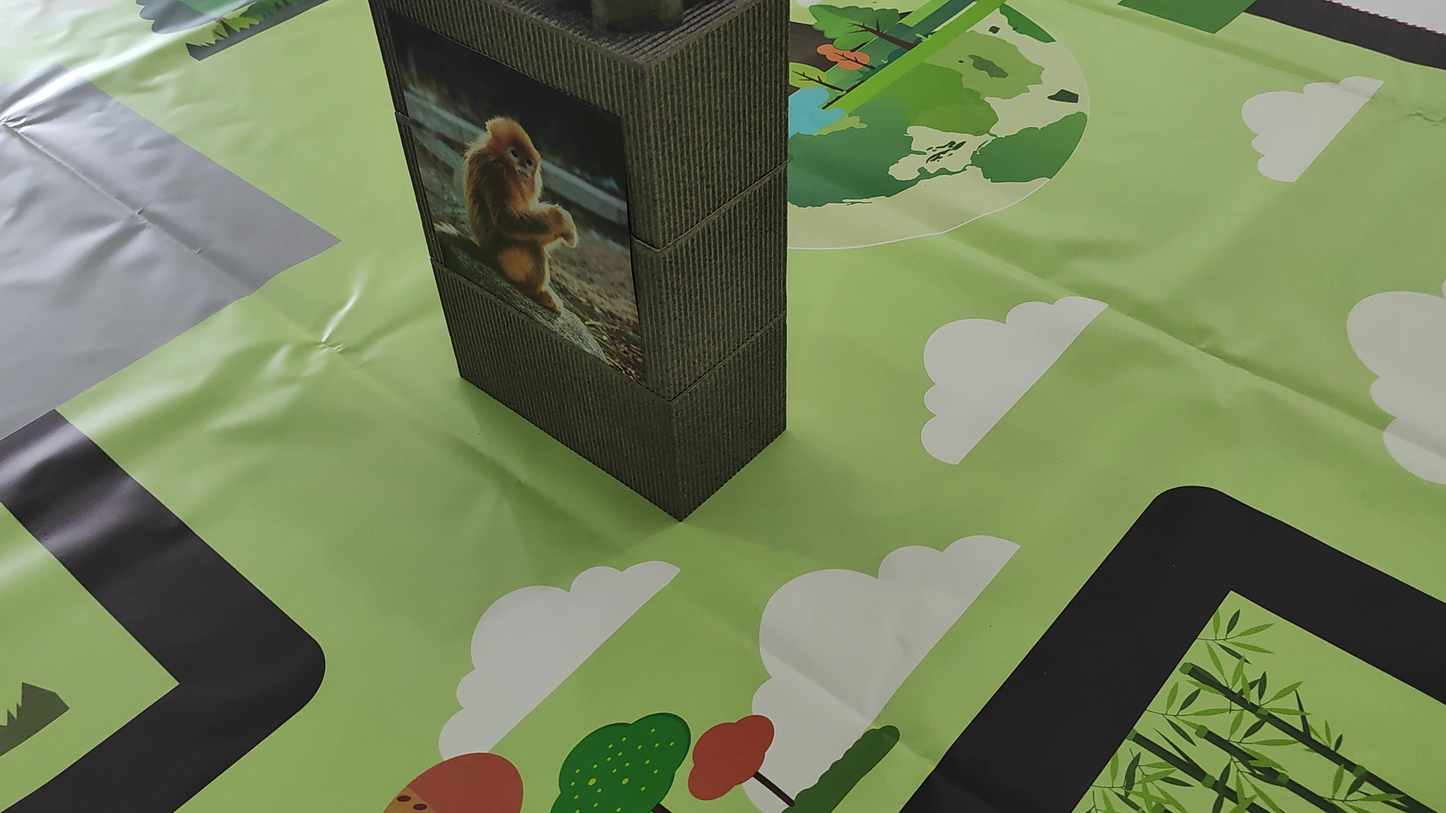monkey: (417, 95, 589, 329)
